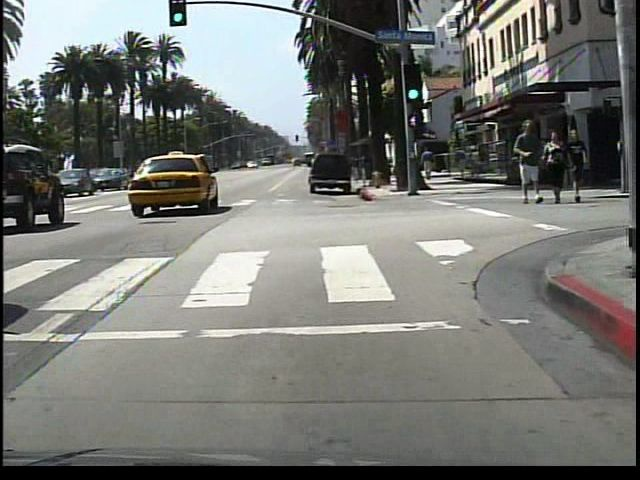person: (511, 120, 544, 209), (542, 130, 571, 210), (565, 128, 591, 208), (417, 144, 439, 185)
